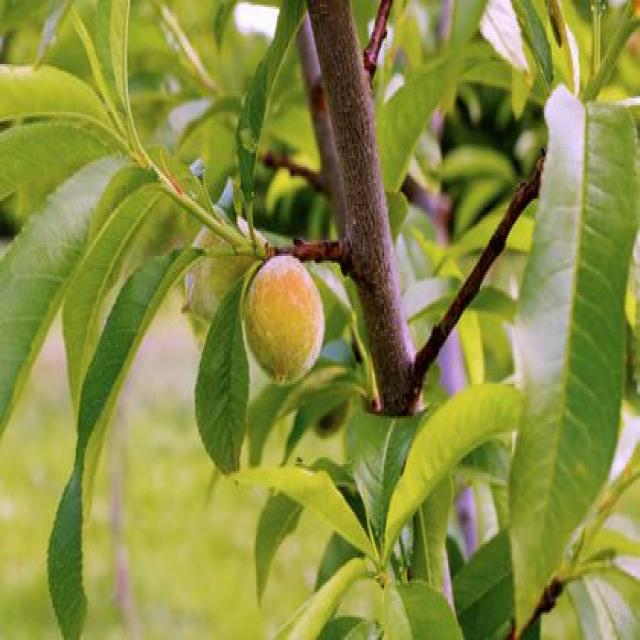Peach: (77, 0, 393, 453)
